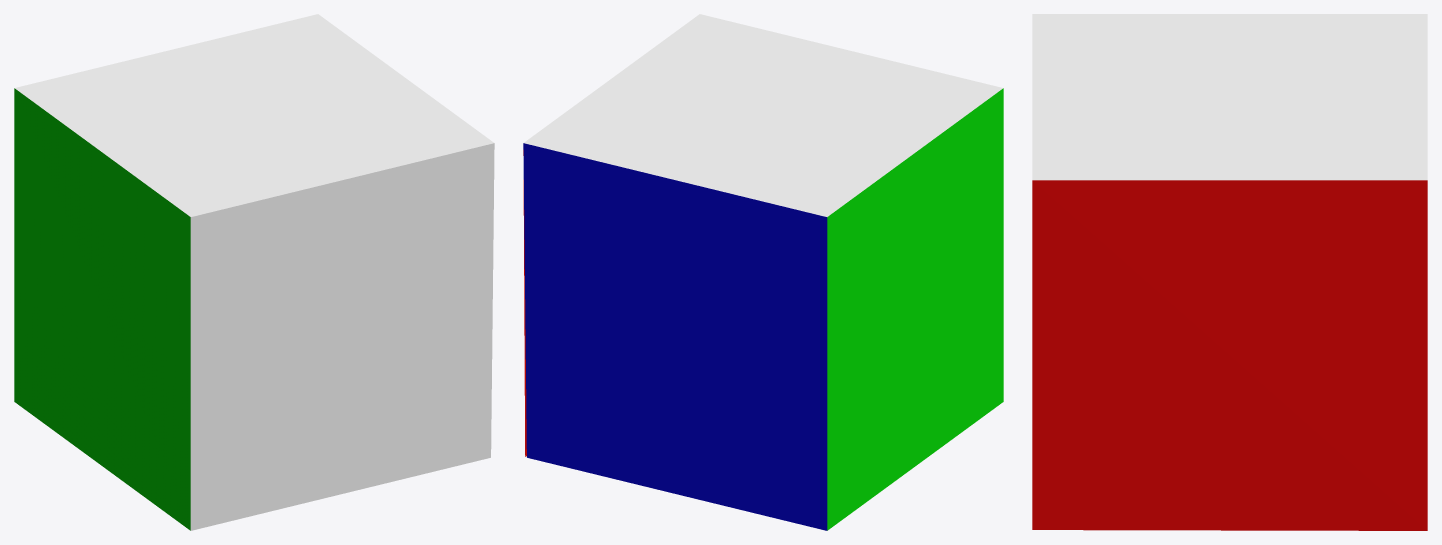
The model's file is cornell_box.obj.
3 views of the same model, side by side, from view 1: azimuth 30°, elevation 25°; view 2: azimuth 150°, elevation 25°; view 3: azimuth 270°, elevation 25° (orthographic). The views are drawn at different scales.
Parts seen in each view (by area): view 1: back_wall, green_wall, ceiling; view 2: front_wall, green_wall, ceiling; view 3: red_wall, ceiling.
Part boxes in pixels (x1,y1,x2,y2): back_wall: (190,143,494,530); green_wall: (14,88,190,530); ceiling: (14,14,493,216); front_wall: (523,143,827,530); green_wall: (827,88,1003,530); ceiling: (524,14,1003,216); red_wall: (1032,180,1427,530); ceiling: (1032,14,1427,180).
Bounding box in the file's own units: 556 × 549 × 559.
